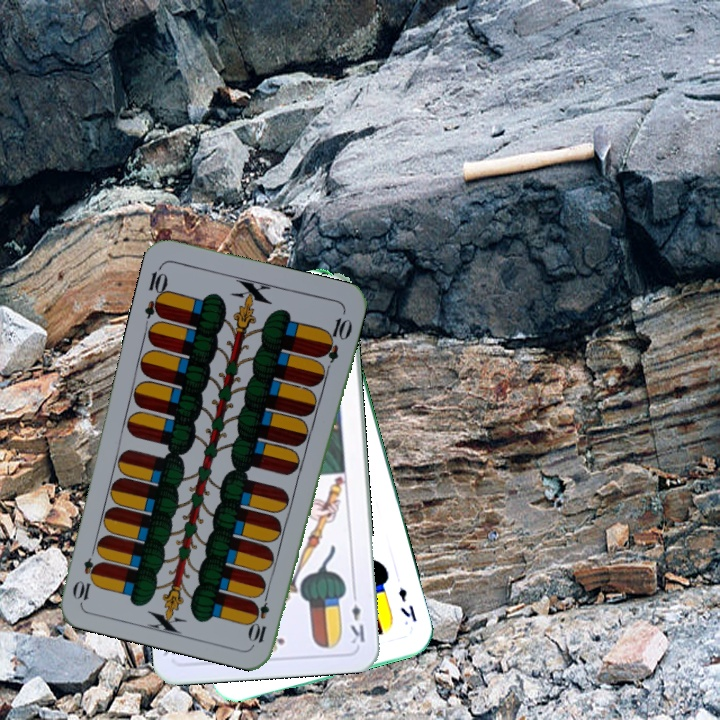E10: (140, 262, 171, 321), (248, 586, 272, 645)
EK: (346, 587, 368, 646), (394, 584, 420, 624)
